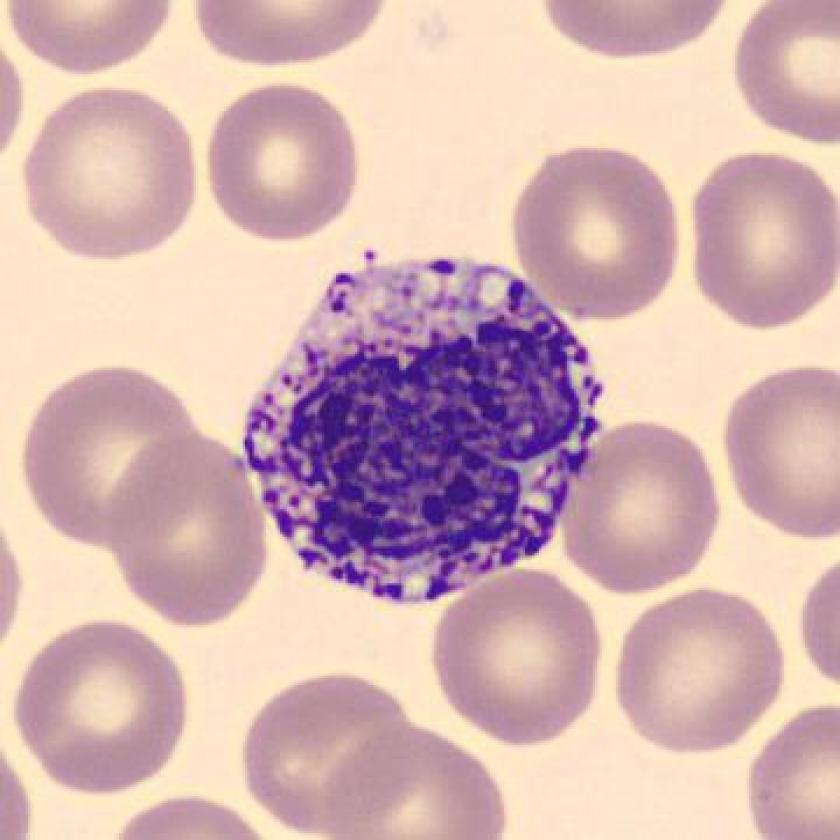basophil: (239, 242, 612, 614)
